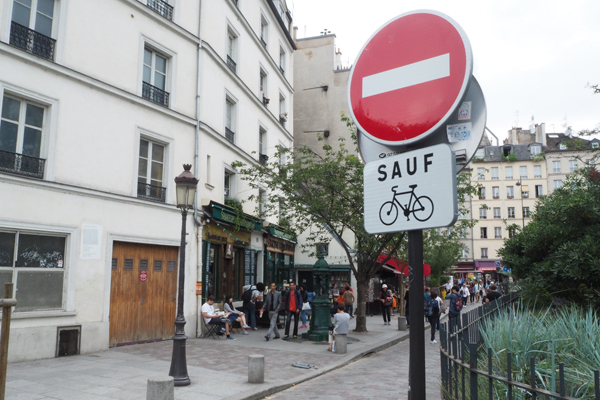No_entry: (347, 9, 472, 145)
